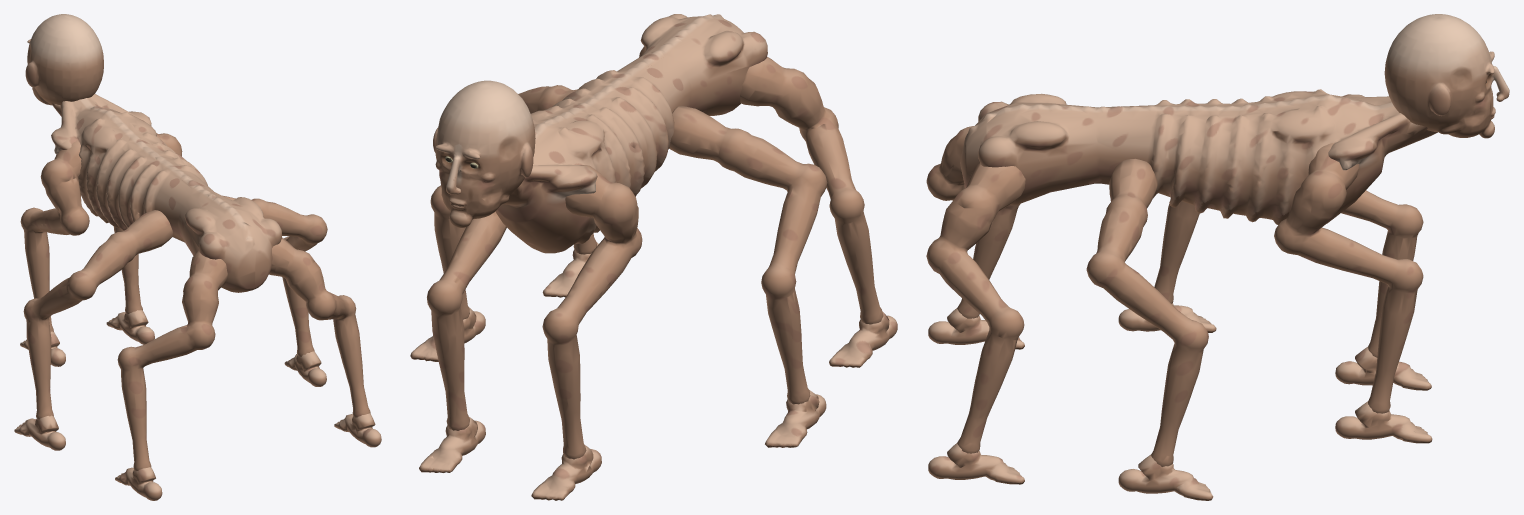
The picture shows the model from 3 angles, left to right: view 1: azimuth 30°, elevation 25°; view 2: azimuth 150°, elevation 25°; view 3: azimuth 270°, elevation 25°; orthographic projection. The views are drawn at different scales.
Size of the model in its own units: 1.46 by 1.48 by 1.99.
Materials: 1 (1 with a texture image).
